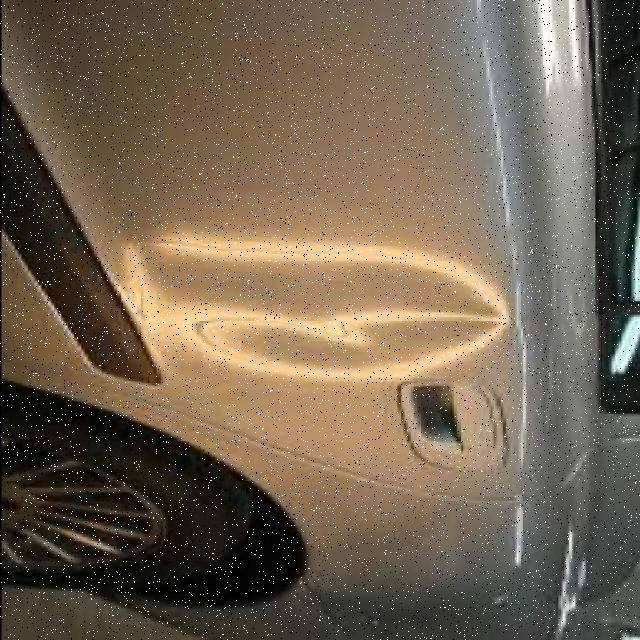damage: (118, 225, 514, 389)
